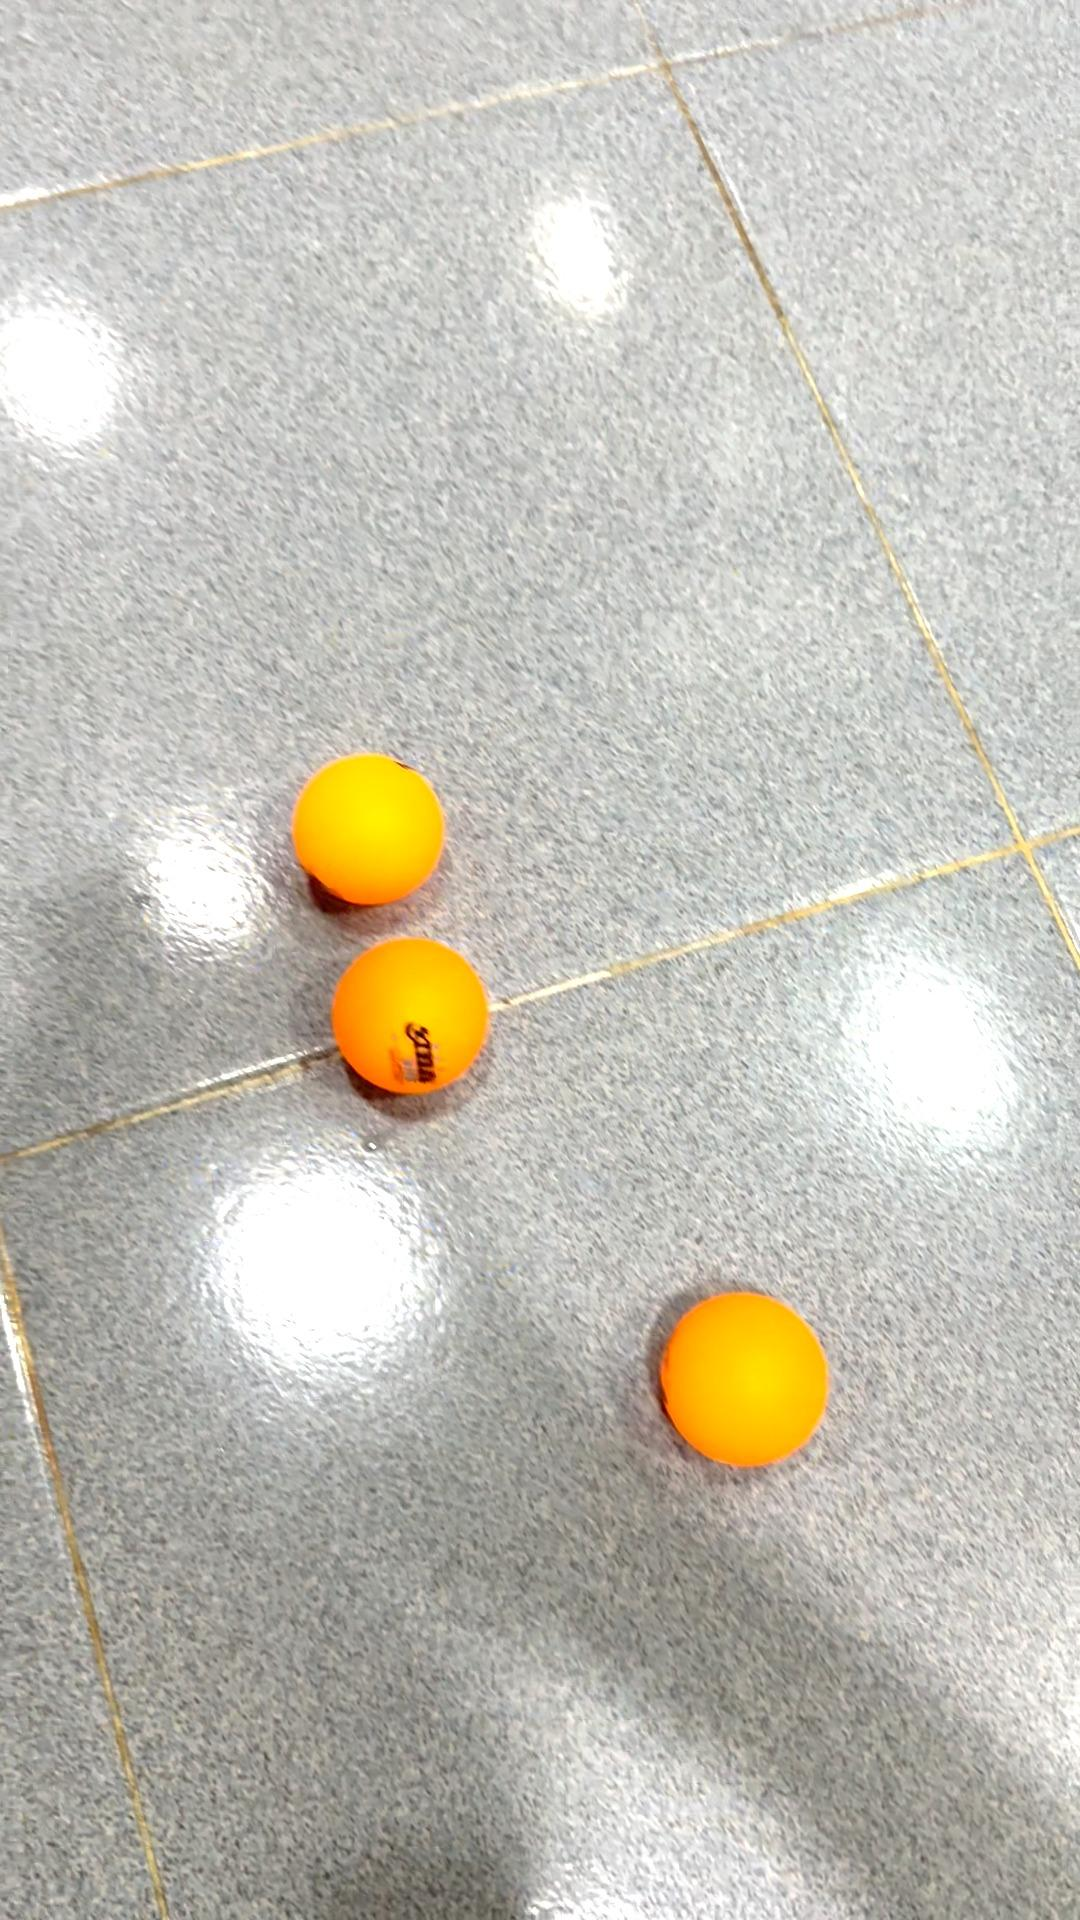oball: (658, 1271, 835, 1468), (331, 924, 501, 1100), (285, 748, 448, 915)
